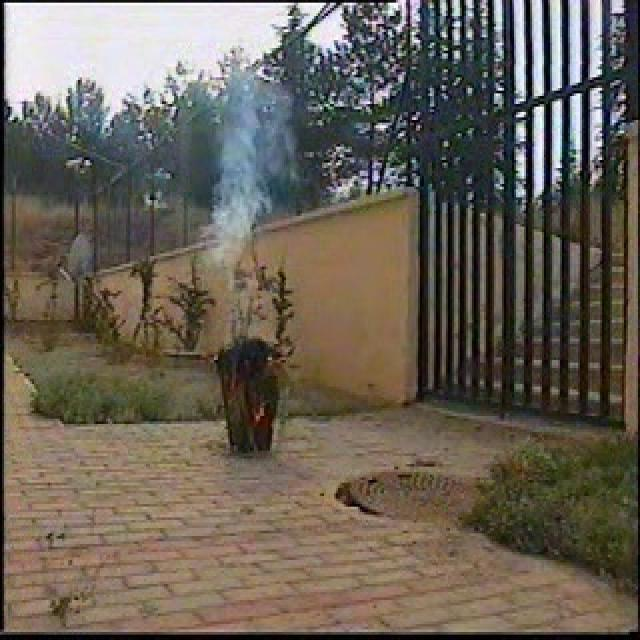Fire: (255, 406, 268, 424)
Smoke: (200, 54, 300, 348)
